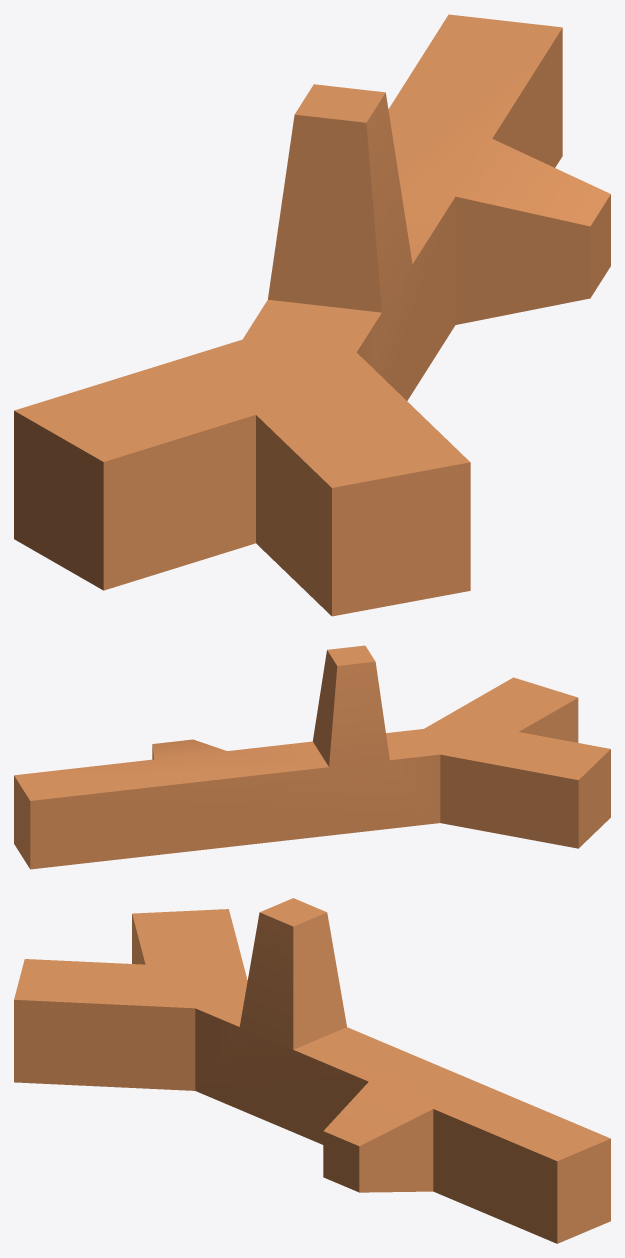
The model's file is resourceWood.dae.
The picture shows the model from 3 angles, top to bottom: view 1: azimuth 30°, elevation 25°; view 2: azimuth 150°, elevation 25°; view 3: azimuth 270°, elevation 25°; orthographic projection. The views are drawn at different scales.
Parts seen in each view (by area): view 1: resourceWood; view 2: resourceWood; view 3: resourceWood.
Boxes of the visible parts, x1,y1,x2,y2 form: resourceWood: [14, 14, 610, 616]; resourceWood: [14, 645, 610, 869]; resourceWood: [14, 898, 610, 1243].
Bounding box in the file's own units: 0.6846 × 0.2497 × 0.6846.
